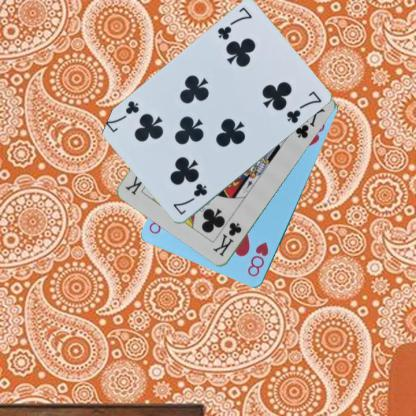7c: (214, 4, 254, 42), (170, 181, 208, 217)
8h: (245, 239, 270, 279)
Kc: (210, 220, 243, 258)
